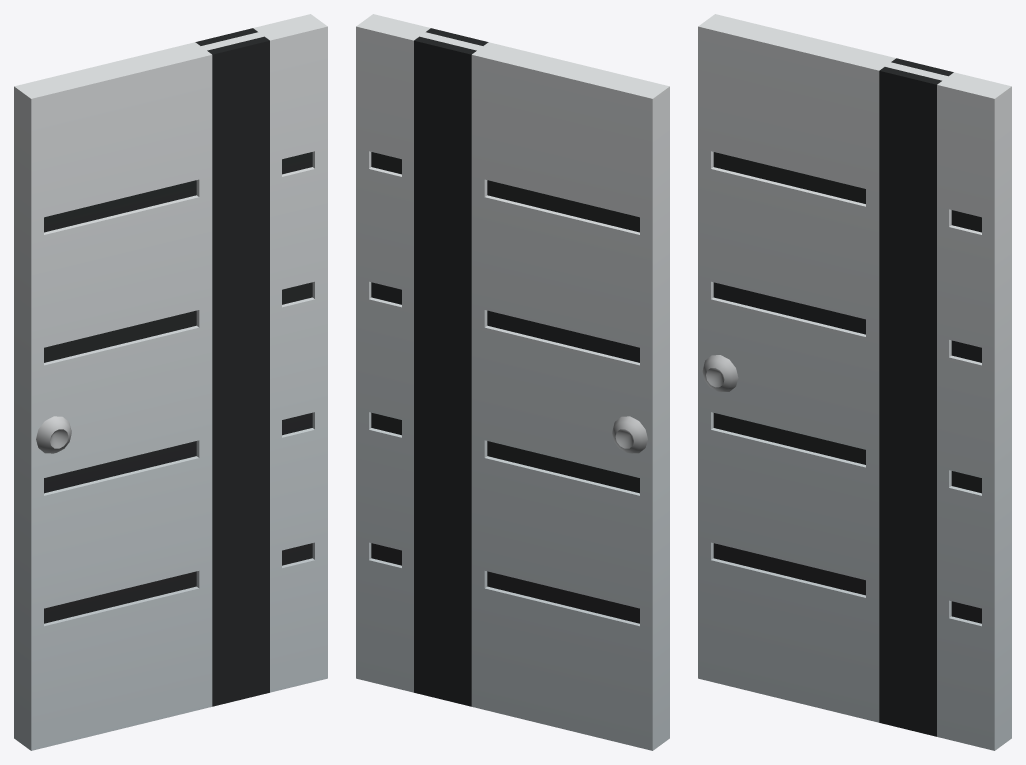
The model's file is Door_White_09.glb.
3 renders of one model, left to right at view 1: azimuth 30°, elevation 25°; view 2: azimuth 150°, elevation 25°; view 3: azimuth 330°, elevation 25°, orthographic.
Parts seen in each view (by area): view 1: Door_White_09; view 2: Door_White_09; view 3: Door_White_09.
Part boxes in pixels (<box>): Door_White_09: <box>14,14,327,750</box>; Door_White_09: <box>356,14,669,750</box>; Door_White_09: <box>698,14,1011,750</box>.
Bounding box in the file's own units: 1 × 2.1 × 0.1634.
1 material, 1 textured.
